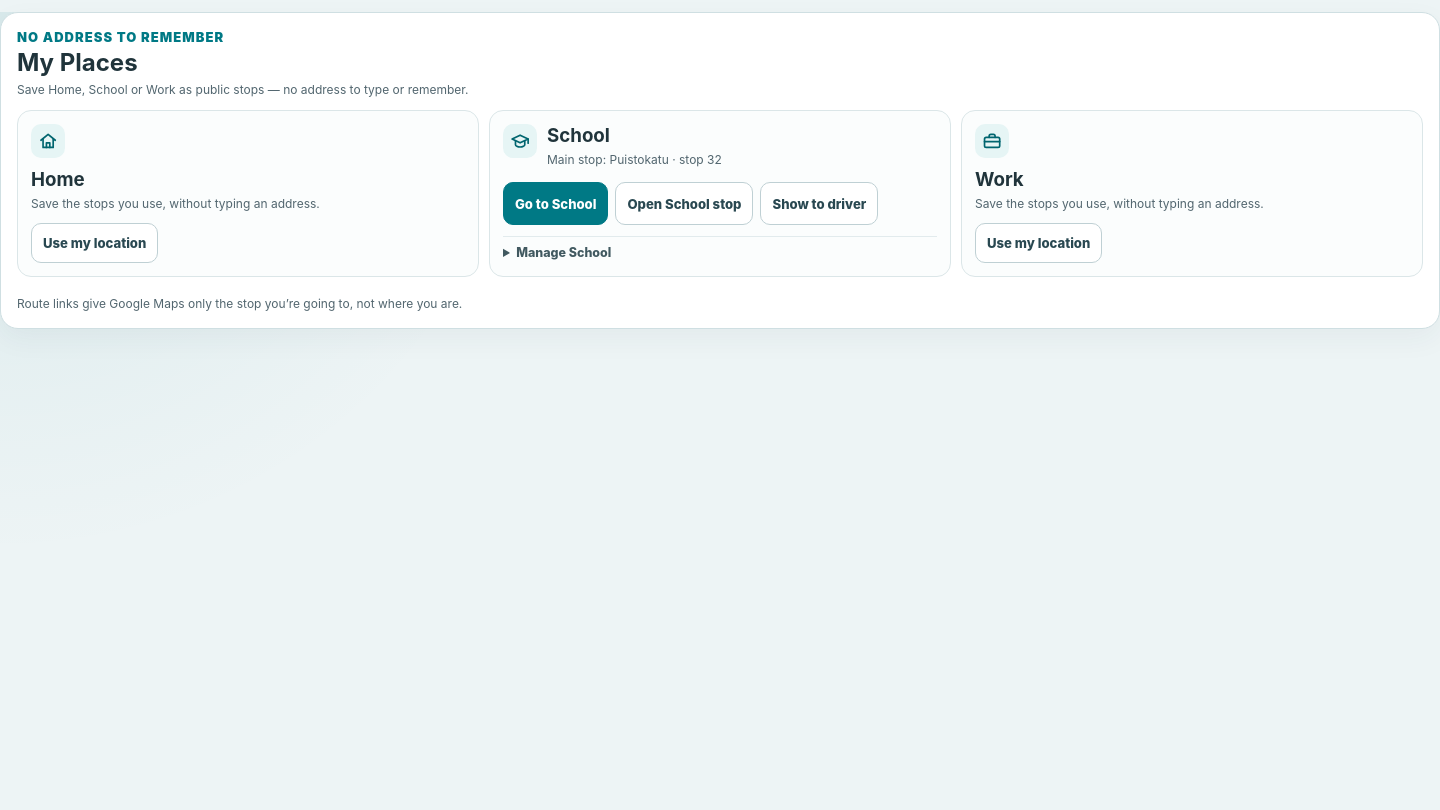
Test: shows a simple driver card without exposing a private address
Click the button "Show to driver" at (819, 204), box [760,182,878,225]
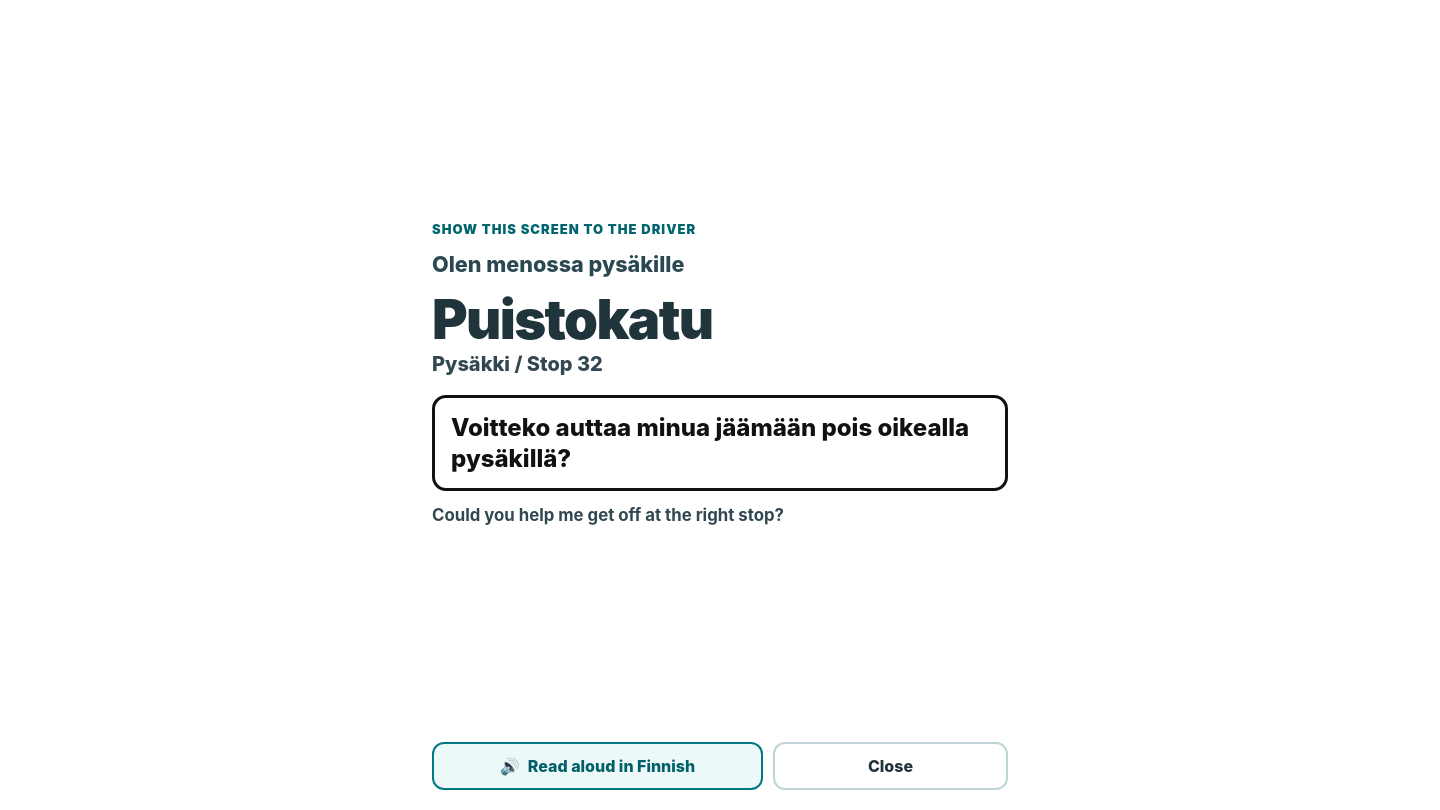
Now the heading "Puistokatu Pysäkki / Stop 32" is shown, box [432,286,712,376]
Now the text "Stop 32" is shown, box [527,352,603,376]
Now the text "Voitteko auttaa minua jäämään pois oikealla pysäkillä?" is shown, box [432,395,1008,491]
